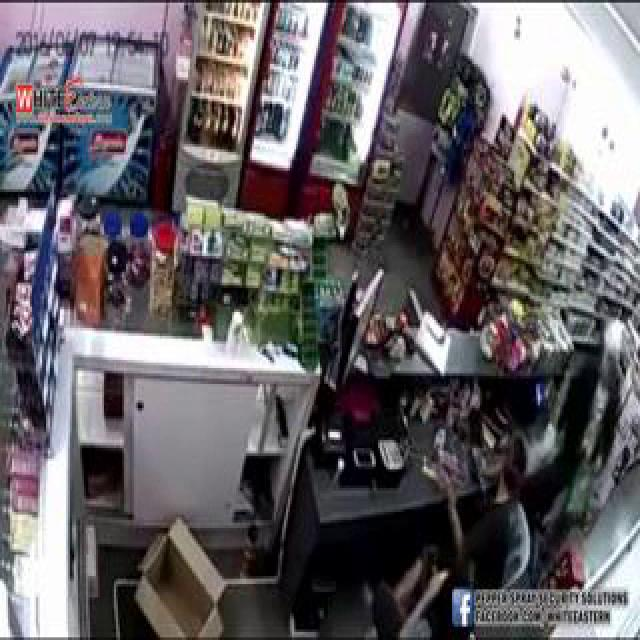robbery: (423, 326, 627, 606)
